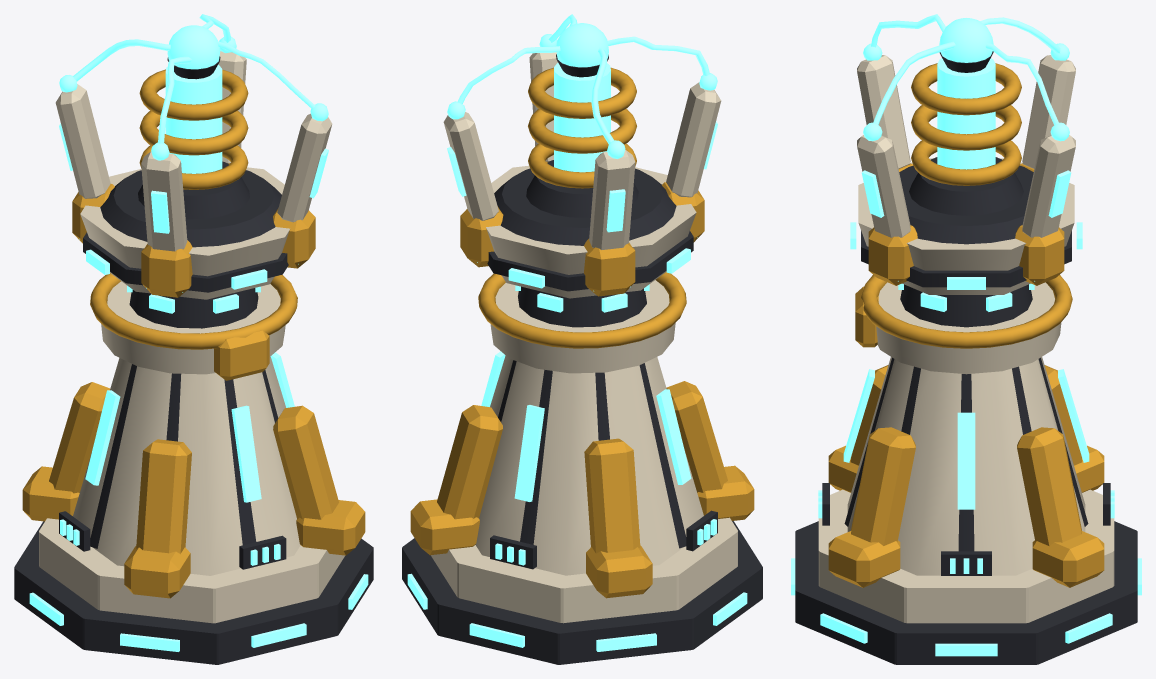
The model's file is ambron_arc_tower.glb.
The picture shows the model from 3 angles, left to right: view 1: azimuth 30°, elevation 25°; view 2: azimuth 150°, elevation 25°; view 3: azimuth 270°, elevation 25°; orthographic projection.
Visible parts, largest first — view 1: body, turret_mesh; view 2: body, turret_mesh; view 3: body, turret_mesh.
Boxes of the visible parts, x1,y1,x2,y2 form: body: [14, 273, 373, 664]; turret_mesh: [55, 14, 332, 299]; body: [402, 272, 762, 664]; turret_mesh: [443, 14, 721, 298]; body: [791, 275, 1141, 664]; turret_mesh: [850, 14, 1082, 294].
Bounding box in the file's own units: 1.8 × 3.24 × 1.8.
